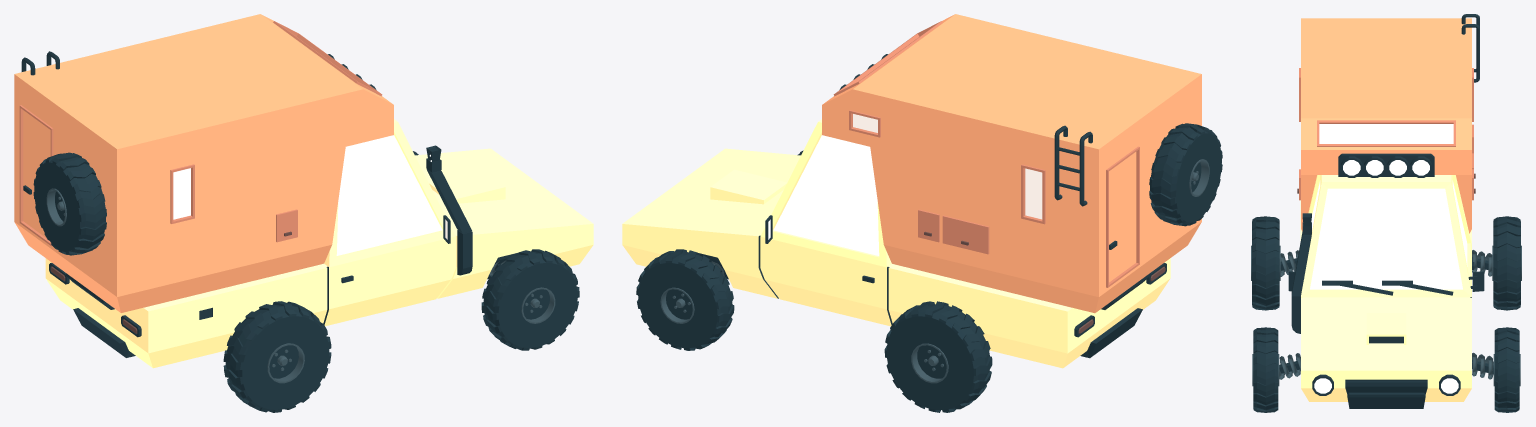
Rendered from truck.glb.
The picture shows the model from 3 angles, left to right: view 1: azimuth 30°, elevation 25°; view 2: azimuth 150°, elevation 25°; view 3: azimuth 270°, elevation 25°; orthographic projection. The views are drawn at different scales.
Visible parts, largest first — view 1: Frame, Rear_wheel001, Front_wheel001; view 2: Frame, Rear_wheel, Front_wheel; view 3: Frame, Rear_wheel001, Rear_wheel, Front_wheel001, Front_wheel, Spring, Spring002, Spring001, Spring003.
Boxes of the visible parts, x1,y1,x2,y2 form: Frame: (14, 14, 593, 368); Rear_wheel001: (223, 301, 331, 412); Front_wheel001: (481, 249, 579, 350); Frame: (622, 14, 1222, 368); Rear_wheel: (884, 301, 992, 412); Front_wheel: (636, 249, 734, 350); Frame: (1288, 14, 1484, 408); Rear_wheel001: (1251, 216, 1280, 310); Rear_wheel: (1492, 216, 1521, 310); Front_wheel001: (1252, 327, 1279, 412); Front_wheel: (1493, 327, 1520, 412); Spring: (1472, 352, 1493, 379); Spring002: (1279, 353, 1300, 379); Spring001: (1472, 250, 1492, 276); Spring003: (1280, 250, 1298, 276).
Size of the model in its own units: 2 by 1.08 by 1.1.
